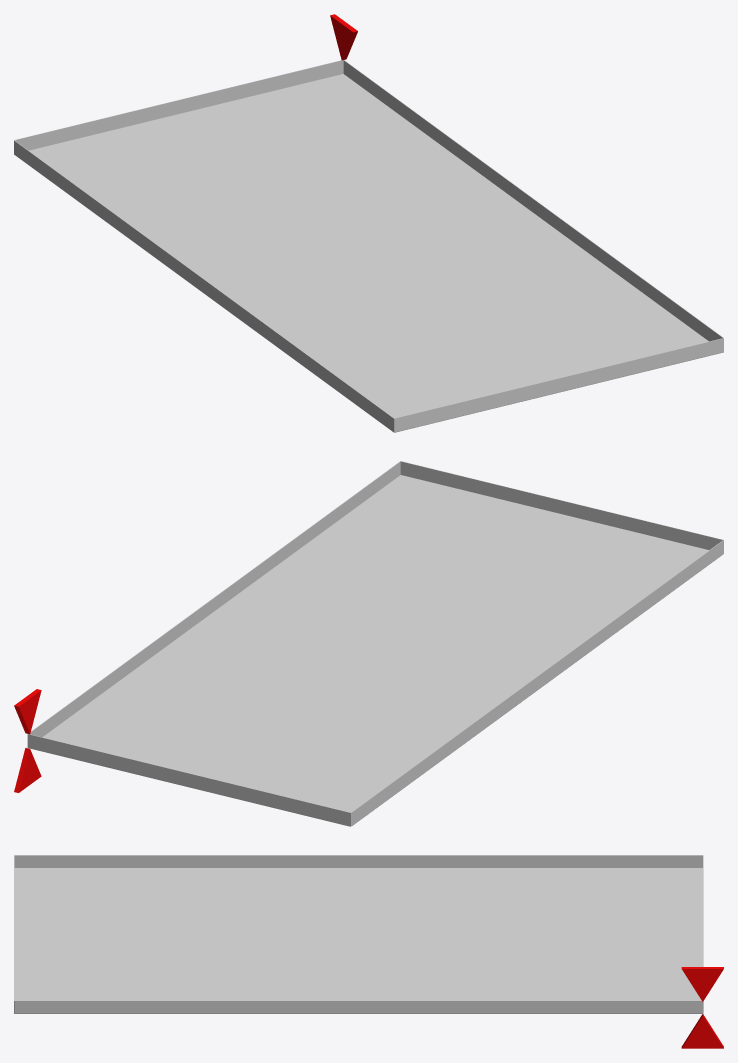
3 views of the same model, one above another, from view 1: azimuth 30°, elevation 25°; view 2: azimuth 150°, elevation 25°; view 3: azimuth 270°, elevation 25° (orthographic). The views are drawn at different scales.
Parts seen in each view (by area): view 1: 3DGeom-3, 3DGeom-2; view 2: 3DGeom-3, 3DGeom-1, 3DGeom-2; view 3: 3DGeom-3, 3DGeom-1, 3DGeom-2.
Part boxes in pixels (left/top/right/bottom): 3DGeom-3: left=14, top=60, right=723, bottom=432; 3DGeom-2: left=330, top=14, right=357, bottom=60; 3DGeom-3: left=27, top=461, right=723, bottom=826; 3DGeom-1: left=14, top=748, right=41, bottom=792; 3DGeom-2: left=14, top=689, right=41, bottom=734; 3DGeom-3: left=14, top=855, right=703, bottom=1013; 3DGeom-1: left=681, top=1014, right=723, bottom=1048; 3DGeom-2: left=681, top=967, right=723, bottom=1001.
Bounding box in the file's own units: 0.6421 × 0.1625 × 1.31.
